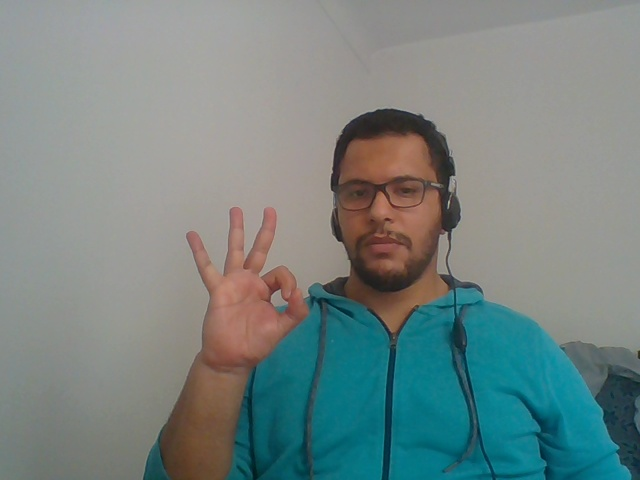okay: (171, 187, 326, 448)
